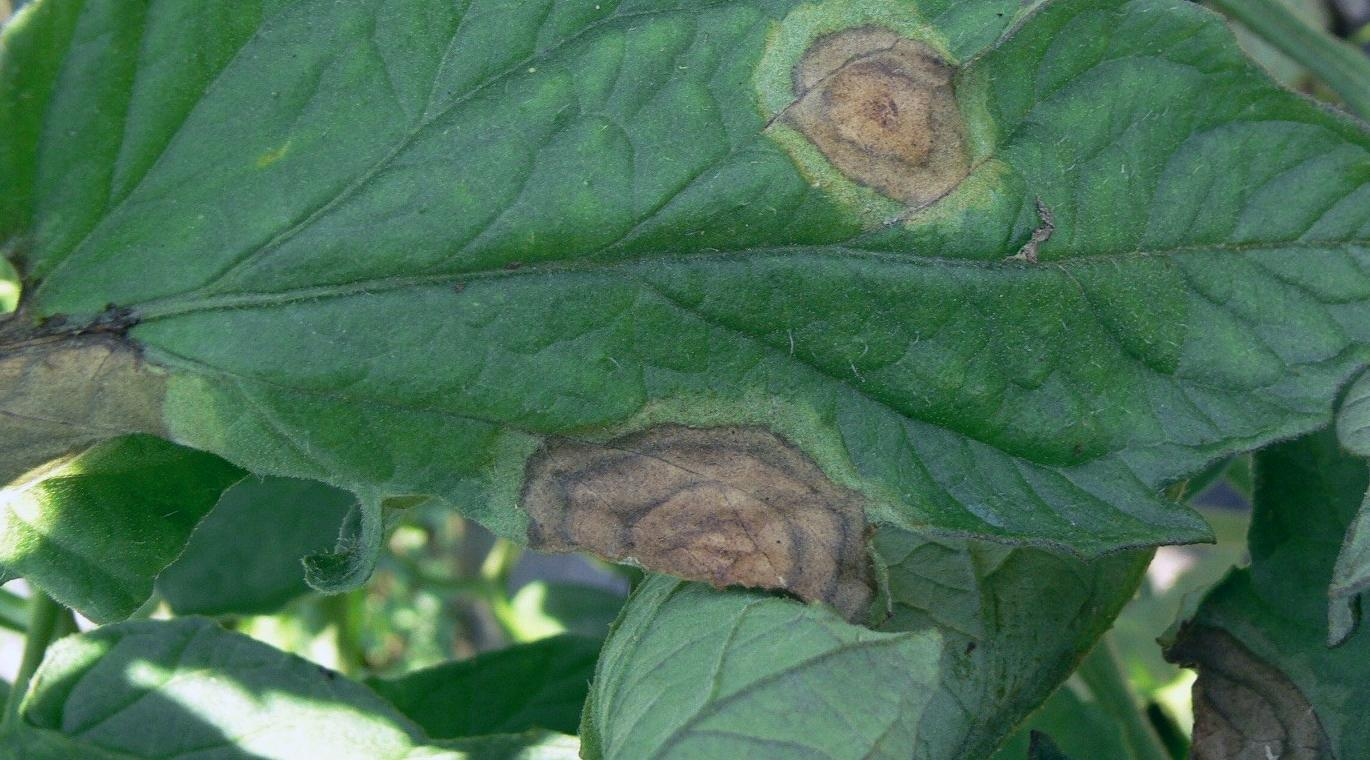Tomato leaf late blight: (0, 0, 1370, 631)
